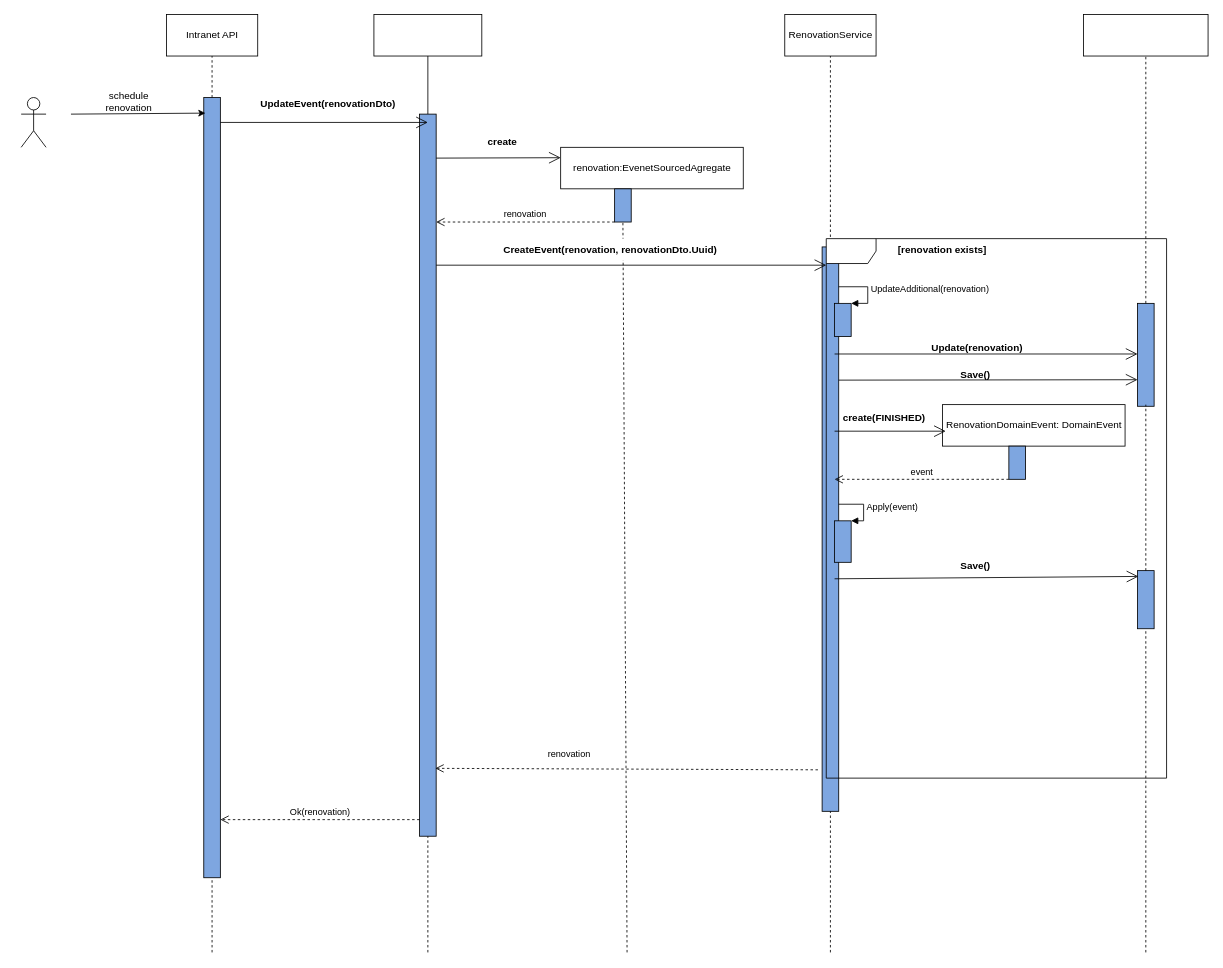
The diagram is 1223 pixels wide and 968 high, and some of its shapes have lost their labels. The centre of each missing label's shape, as x and y in pixels:
"manager" belongs at pixel 33 122.
"option" belongs at pixel 996 508.
"RenovationController" belongs at pixel 427 35.
"RenovationRepository" belongs at pixel 1145 35.
